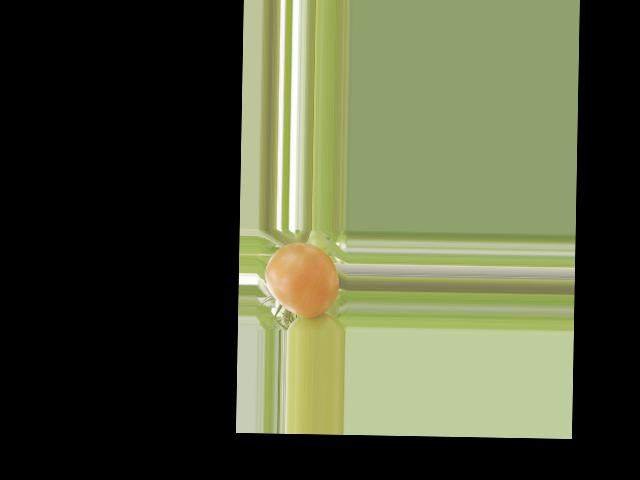tomato: (264, 242, 339, 318)
